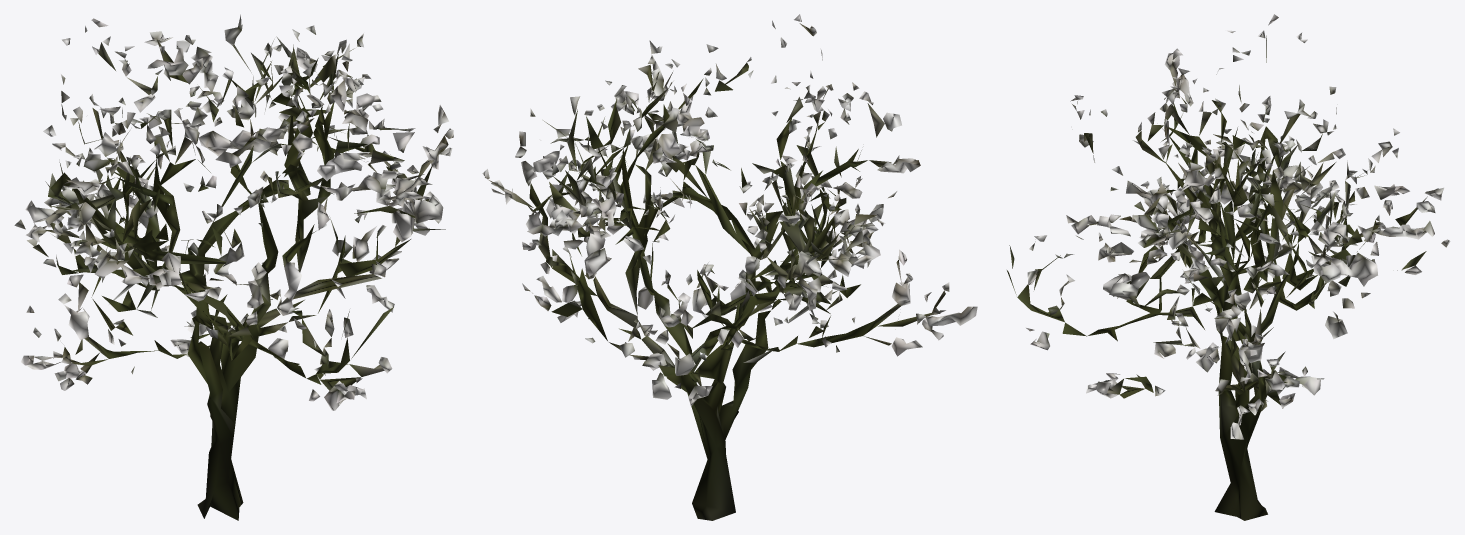
File: peach.glb
3 views of the same model, side by side, from view 1: azimuth 30°, elevation 25°; view 2: azimuth 150°, elevation 25°; view 3: azimuth 270°, elevation 25° (orthographic). The views are drawn at different scales.
Parts seen in each view (by area): view 1: trunk, crown; view 2: trunk, crown; view 3: trunk, crown.
Boxes of the visible parts, <box> form: trunk: <box>33,36,448,520</box>; crown: <box>14,14,453,410</box>; trunk: <box>489,23,945,520</box>; crown: <box>482,14,977,406</box>; trunk: <box>1007,35,1427,520</box>; crown: <box>1026,14,1450,439</box>.
Size of the model in its own units: 5.98 by 5.98 by 5.35.
